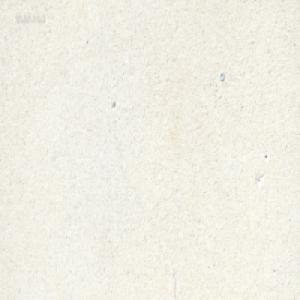Washer: (219, 70, 224, 81)
